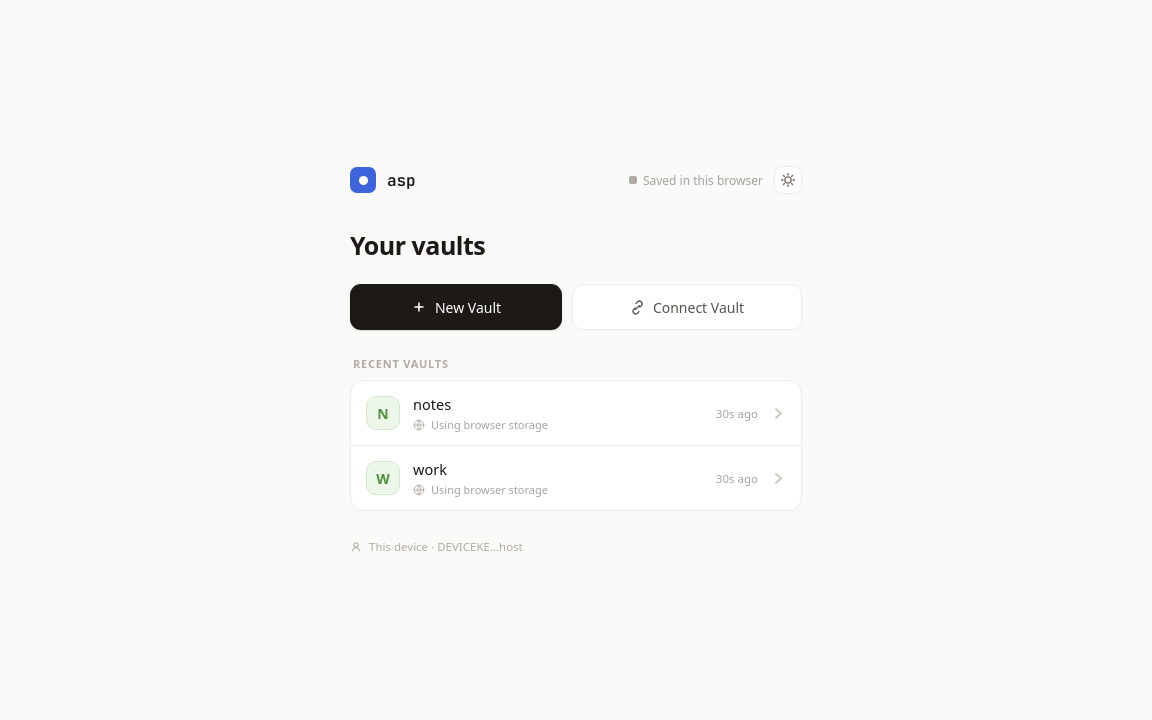
Test: App — connect screen › customizes a vault from its context menu (name + emoji overlay)
Right-click the text "notes": [432, 404] box [413,394,451,414]
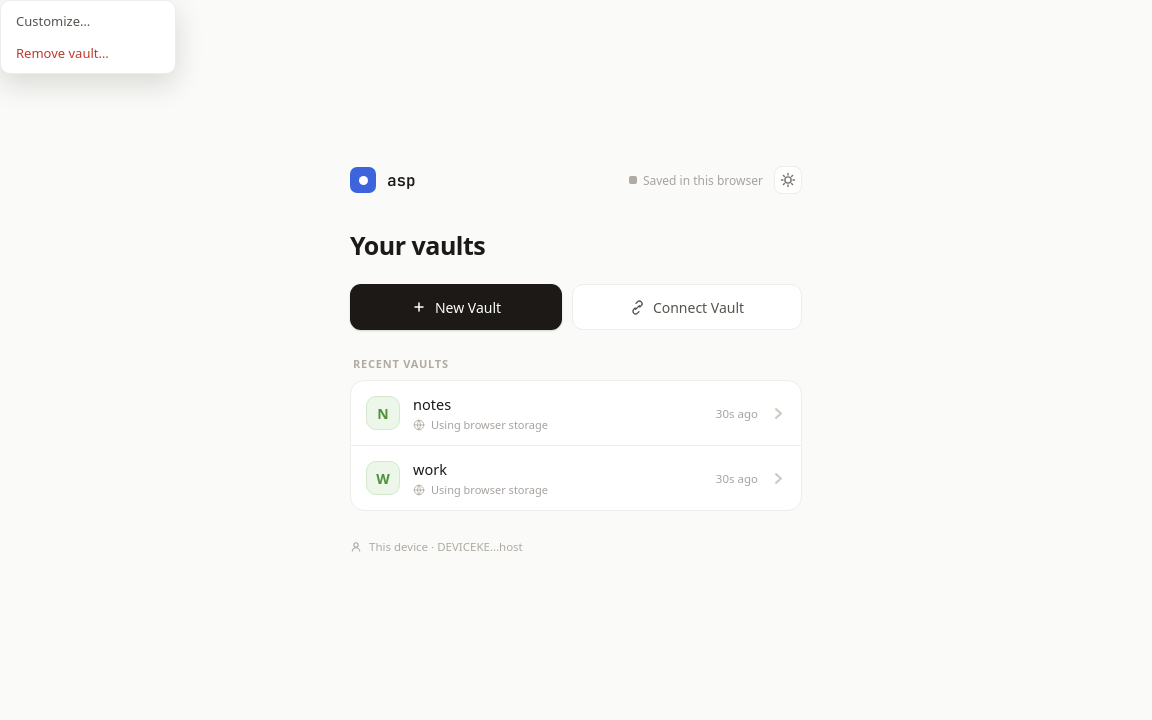
Click the text "Customize…": [53, 21] box [16,12,90,30]
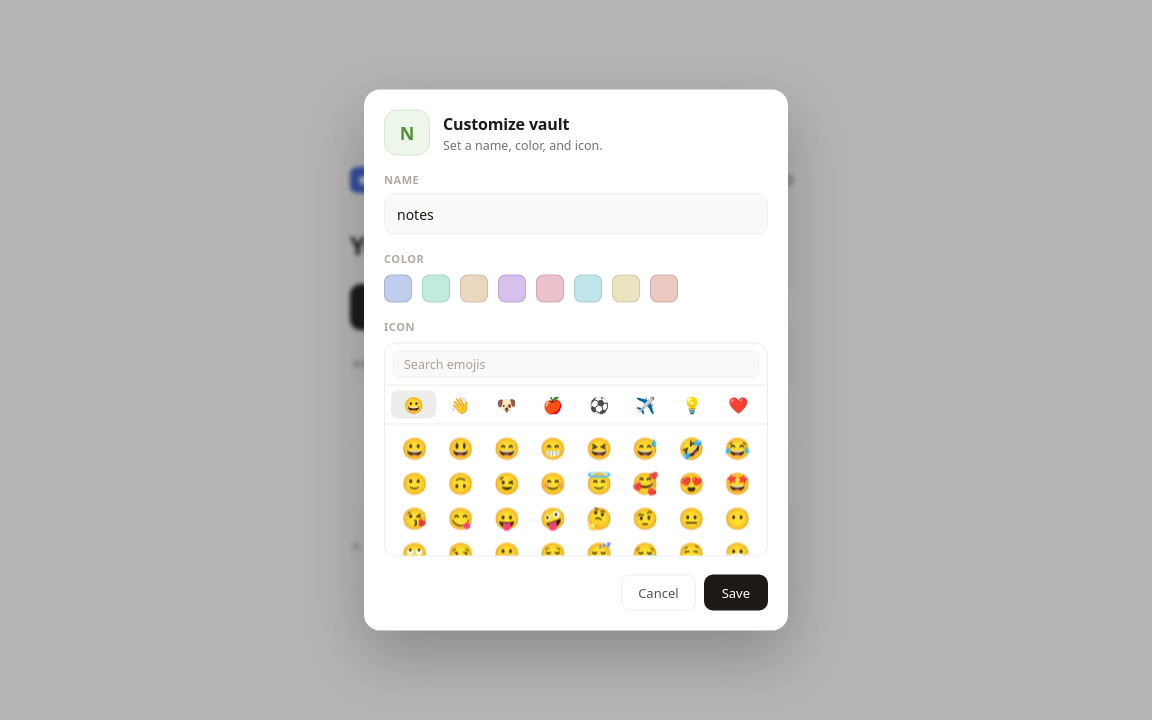
Replace the text in the field showing "notes" with "My Notes": [576, 214] box [384,194,768,234]
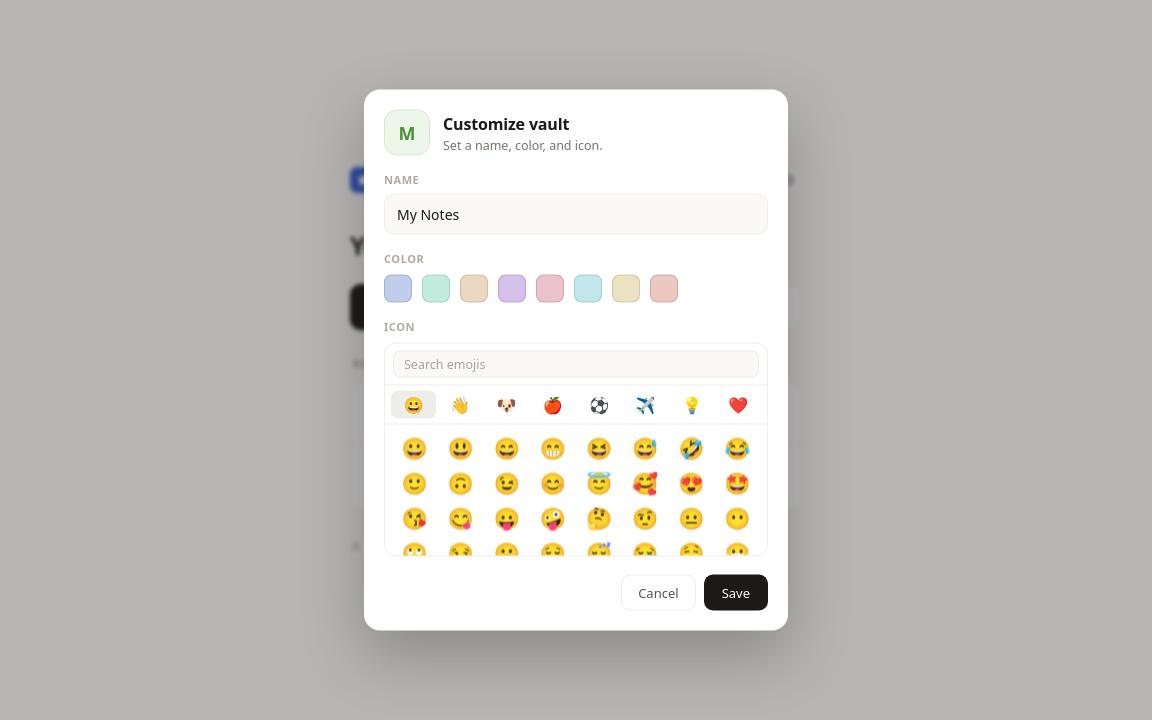
In the field with placeholder "Search emojis": [576, 364] box [393,350,759,378], type "rocket"
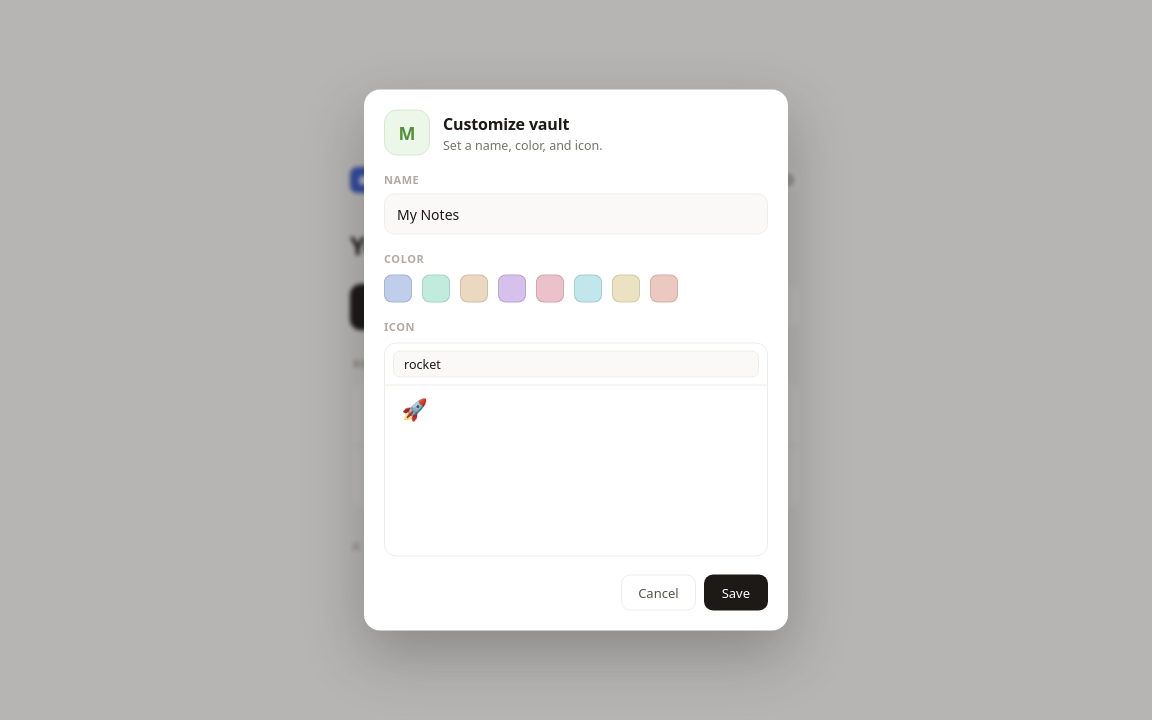
Click the text with class "asp-hover-list" showing "🚀": [415, 408] box [402,394,428,422]
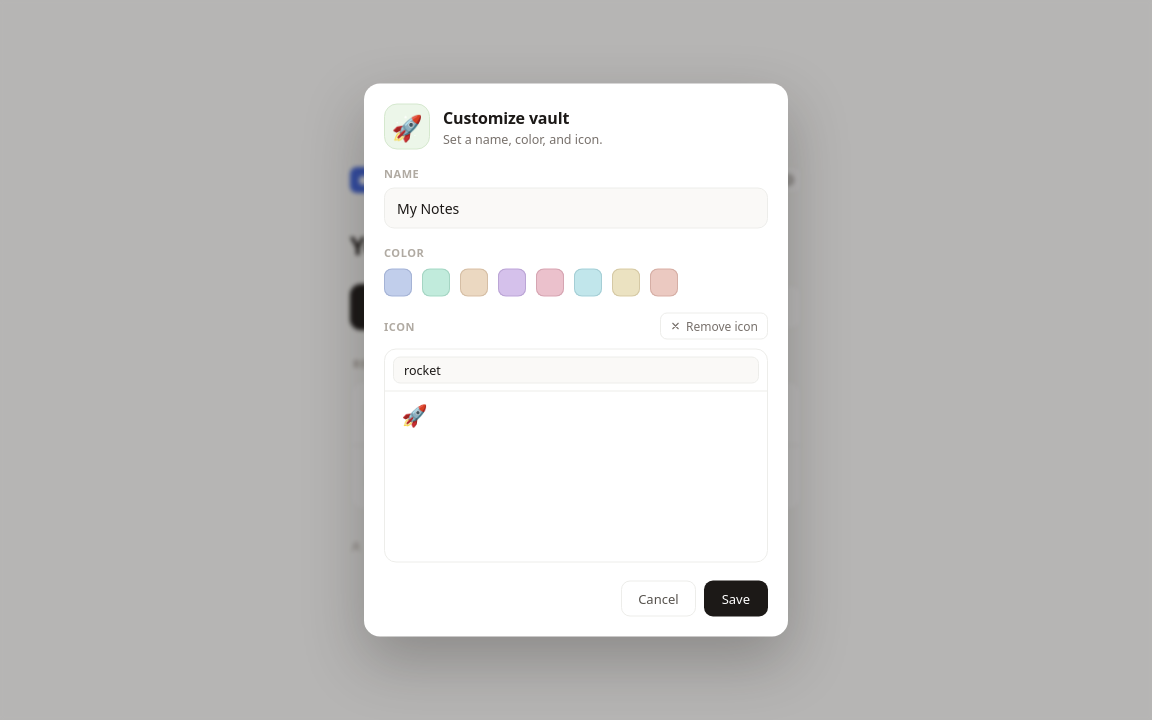
Click the button "Save": [736, 598] box [704,580,768,616]
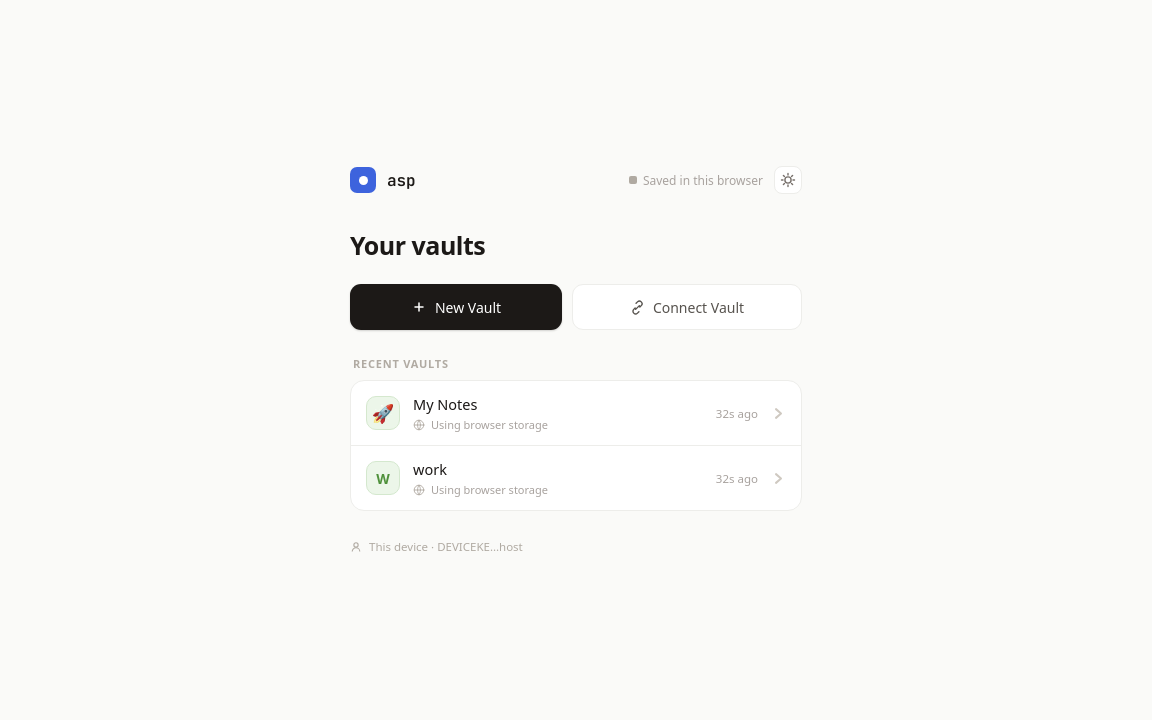
Now the text "My Notes" is shown, box [413,394,478,414]
